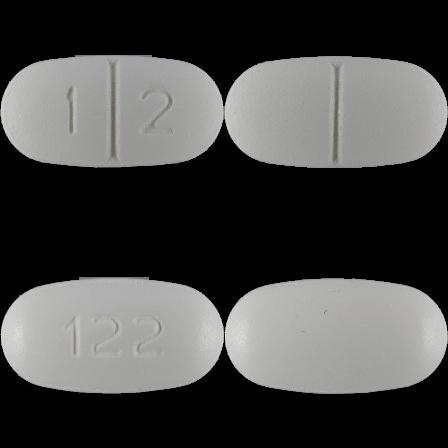33358-154: (0, 0, 224, 224)
